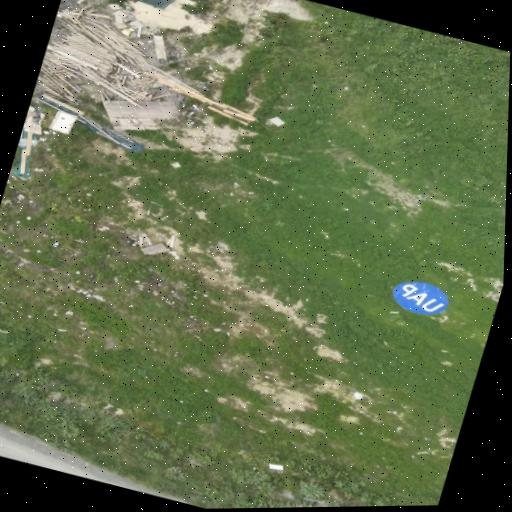uap: (391, 281, 447, 313)
